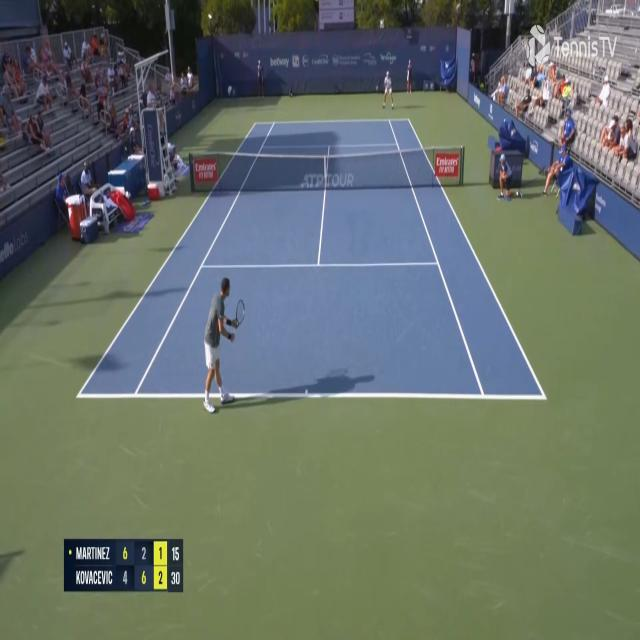tennis-player: (202, 270, 247, 416), (380, 70, 396, 111)
